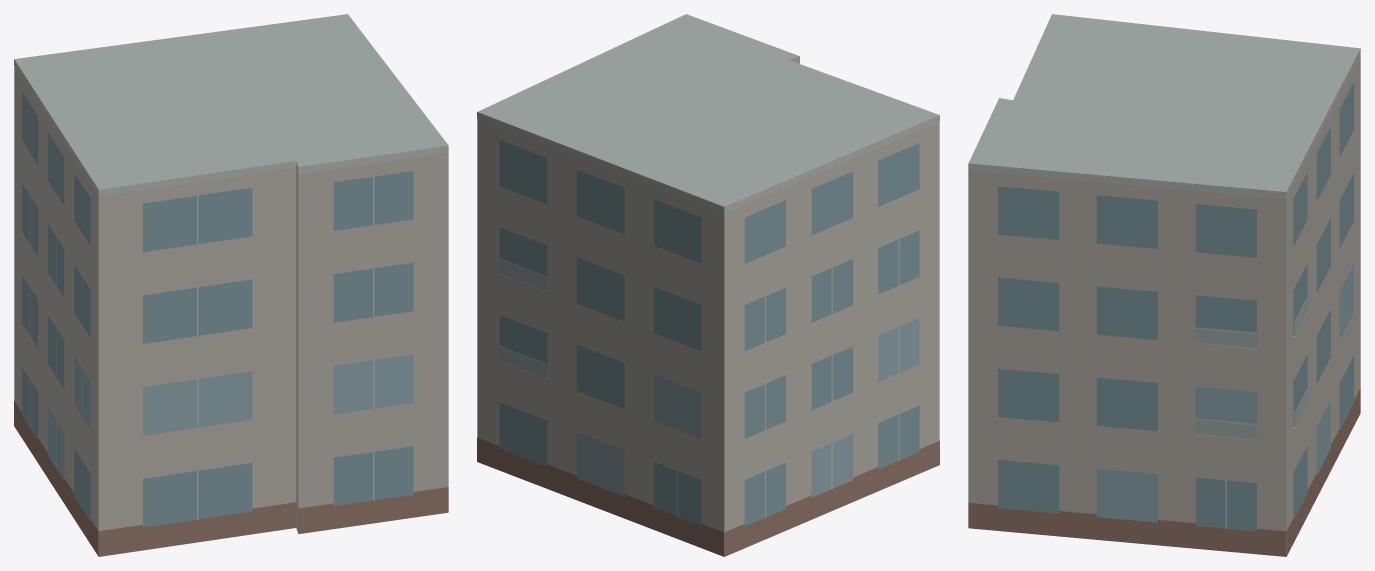
The model's file is survey-upis-32663585.glb.
3 views of the same model, side by side, from view 1: azimuth 30°, elevation 25°; view 2: azimuth 150°, elevation 25°; view 3: azimuth 270°, elevation 25° (orthographic). The views are drawn at different scales.
Parts seen in each view (by area): view 1: survey-upis-32663585.tmp; view 2: survey-upis-32663585.tmp; view 3: survey-upis-32663585.tmp.
Part boxes in pixels (box(x1,y1,x2,y2)): survey-upis-32663585.tmp: box(14, 14, 448, 556); survey-upis-32663585.tmp: box(477, 14, 939, 556); survey-upis-32663585.tmp: box(968, 14, 1360, 556).
Bounding box in the file's own units: 13.41 × 12.8 × 12.48.
